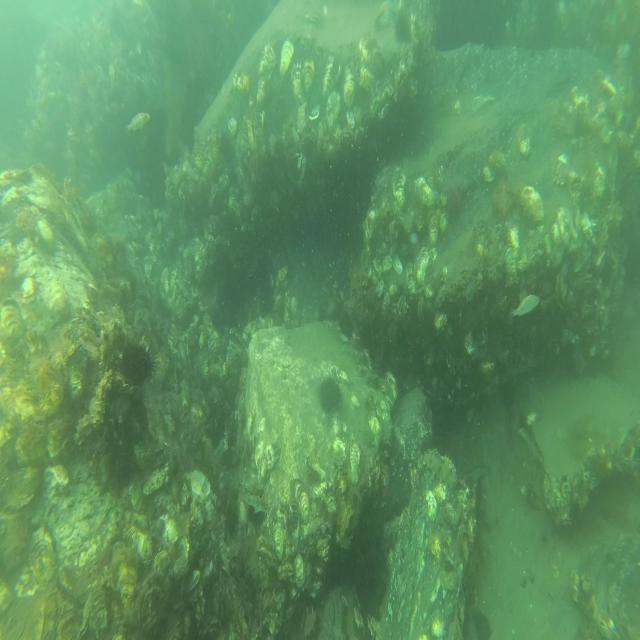echinus: (120, 337, 157, 390), (357, 546, 387, 605), (318, 374, 344, 417), (394, 11, 412, 47), (216, 131, 232, 159)
holothurian: (420, 448, 458, 489)
